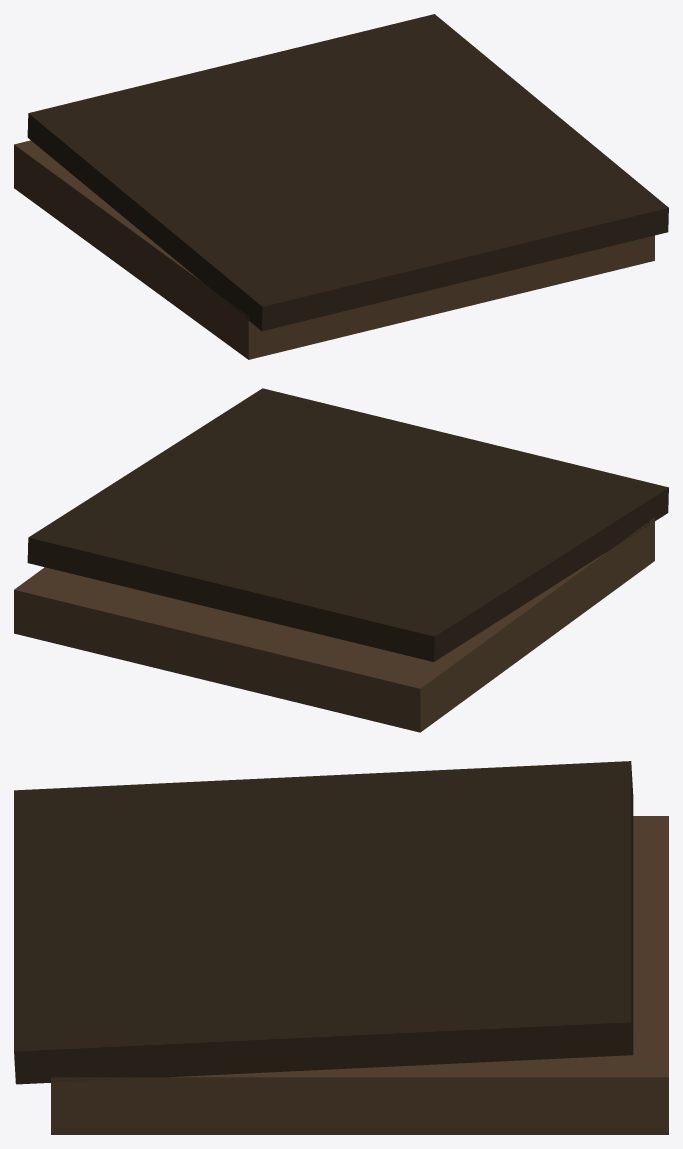
Rendered from welt_karton.glb.
3 views of the same model, one above another, from view 1: azimuth 30°, elevation 25°; view 2: azimuth 150°, elevation 25°; view 3: azimuth 270°, elevation 25° (orthographic). The views are drawn at different scales.
Parts seen in each view (by area): view 1: deckel, boden; view 2: deckel, boden; view 3: deckel, boden.
Part boxes in pixels (x1,y1,x2,y2): deckel: [27, 14, 668, 331]; boden: [14, 140, 654, 359]; deckel: [27, 388, 668, 661]; boden: [14, 517, 654, 732]; deckel: [14, 761, 633, 1084]; boden: [51, 816, 668, 1134].
Size of the model in its own units: 0.34 by 0.0684 by 0.3603.
